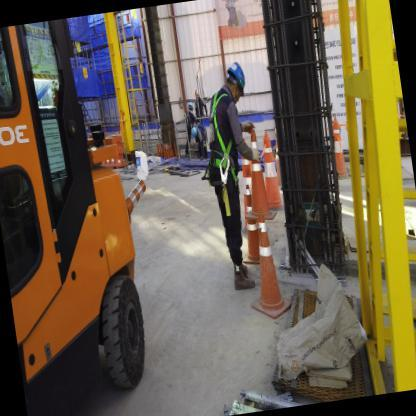Helmet: (225, 50, 254, 98)
safety-shoe: (230, 264, 256, 300)
